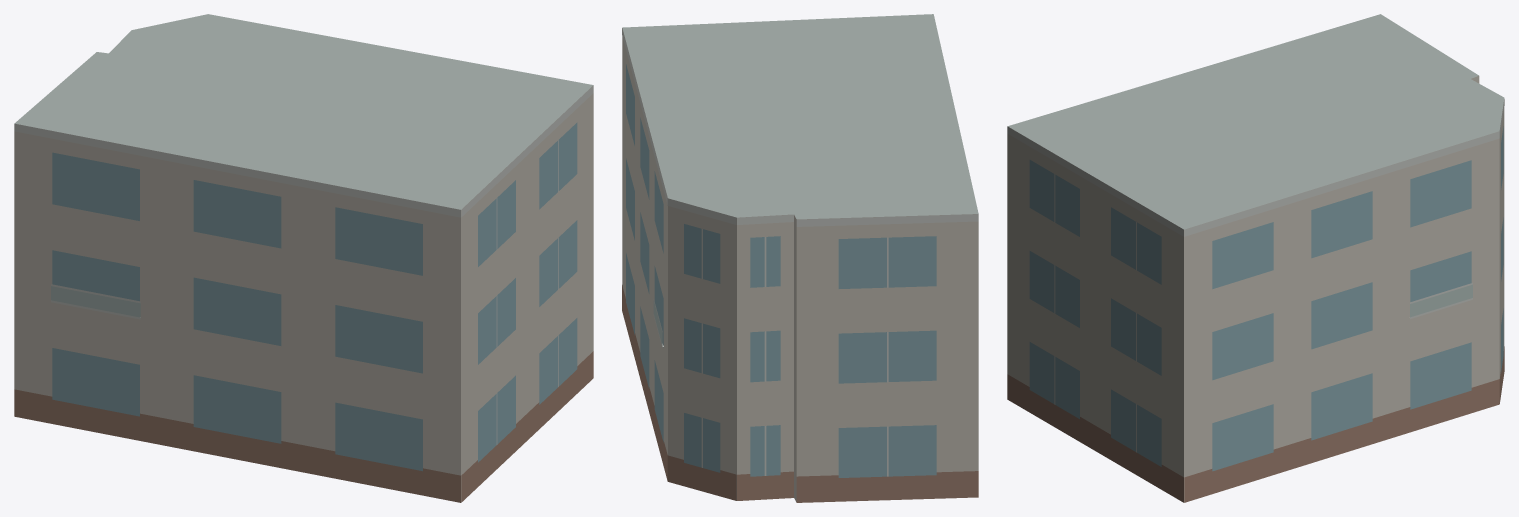
The model's file is survey-upis-32811992.glb.
The picture shows the model from 3 angles, left to right: view 1: azimuth 30°, elevation 25°; view 2: azimuth 150°, elevation 25°; view 3: azimuth 270°, elevation 25°; orthographic projection. The views are drawn at different scales.
Parts seen in each view (by area): view 1: survey-upis-32811992.tmp; view 2: survey-upis-32811992.tmp; view 3: survey-upis-32811992.tmp.
Part boxes in pixels (left/top/right/bottom): survey-upis-32811992.tmp: left=14, top=14, right=593, bottom=502; survey-upis-32811992.tmp: left=622, top=14, right=978, bottom=502; survey-upis-32811992.tmp: left=1007, top=14, right=1504, bottom=502.
Size of the model in its own units: 15.5 by 9.15 by 15.09.
